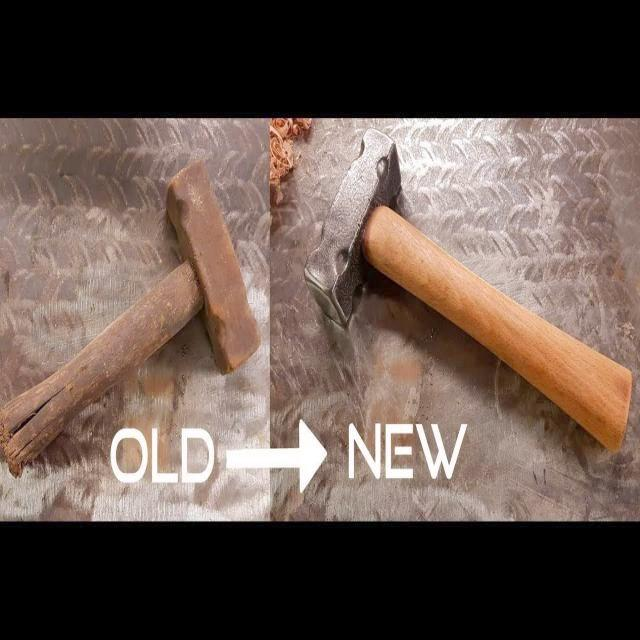hammer: (298, 123, 634, 454), (0, 148, 264, 488)
